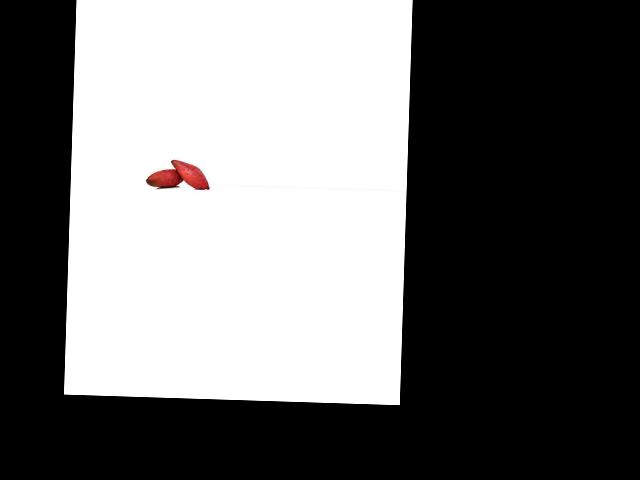sweet_potato: (144, 166, 187, 188)
